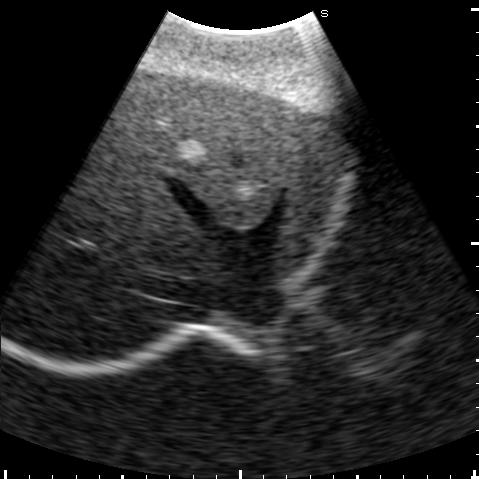S2: (277, 116, 341, 274)
S4: (119, 69, 295, 227)
S7: (18, 244, 183, 362)
S8: (76, 145, 219, 277)
Tumor: (177, 139, 207, 162), (234, 183, 256, 197)
